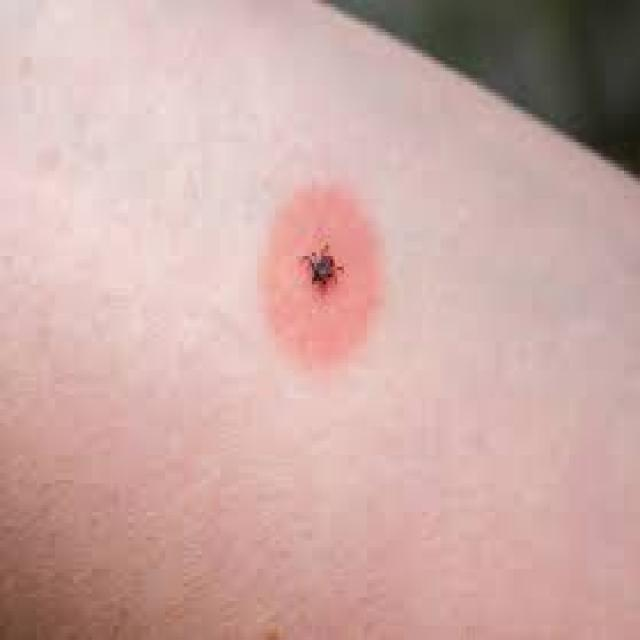kene: (252, 195, 389, 359)
